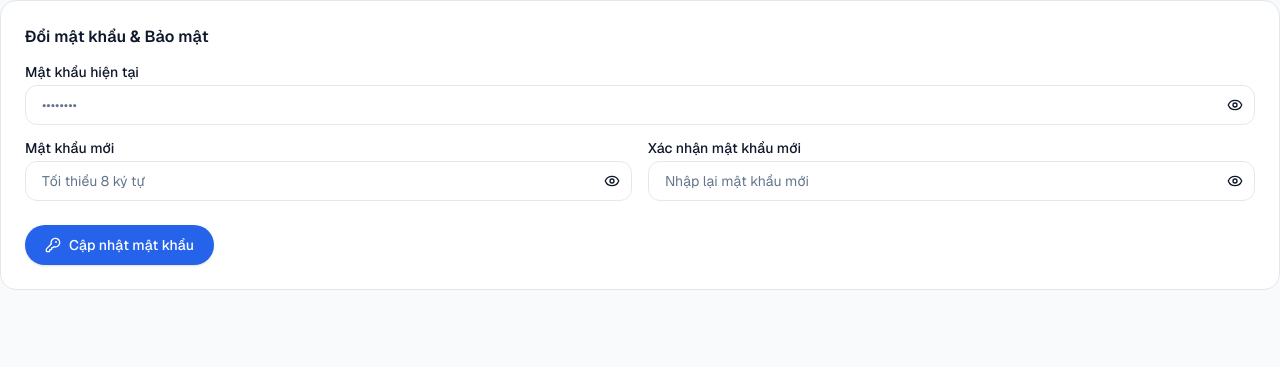
it: ChangePasswordGroup › shows validation error when confirmation password does not match
Type "oldPassword123" into the password field labelled "Mật khẩu hiện tại" at point(640, 105), box [25,85,1255,125]
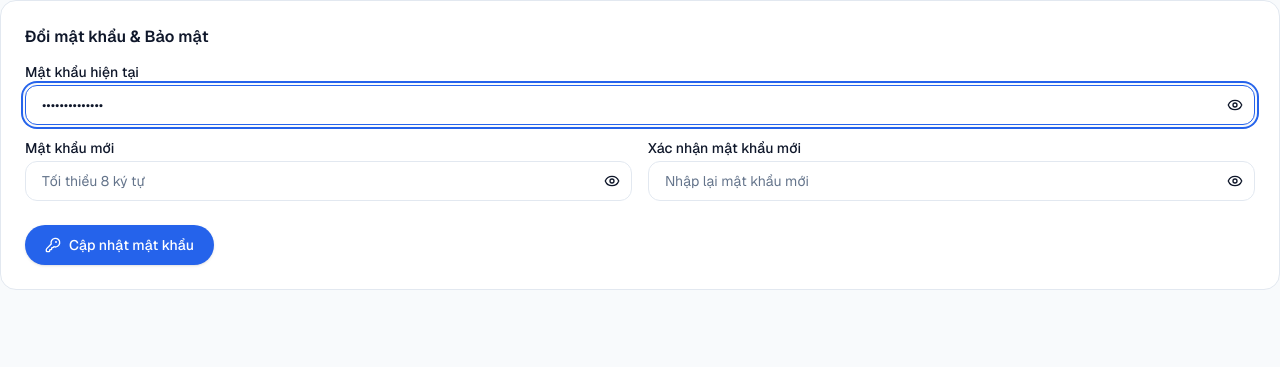
Type "newPassword123" into the password field labelled "Mật khẩu mới" at point(328, 181), box [25,161,632,201]
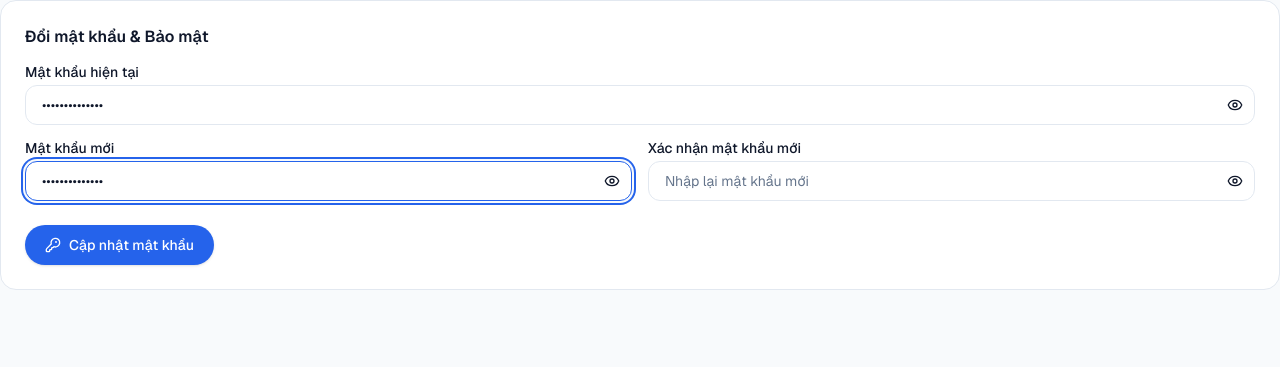
Type "mismatch123" into the password field labelled "Xác nhận mật khẩu mới" at point(952, 181), box [648,161,1255,201]
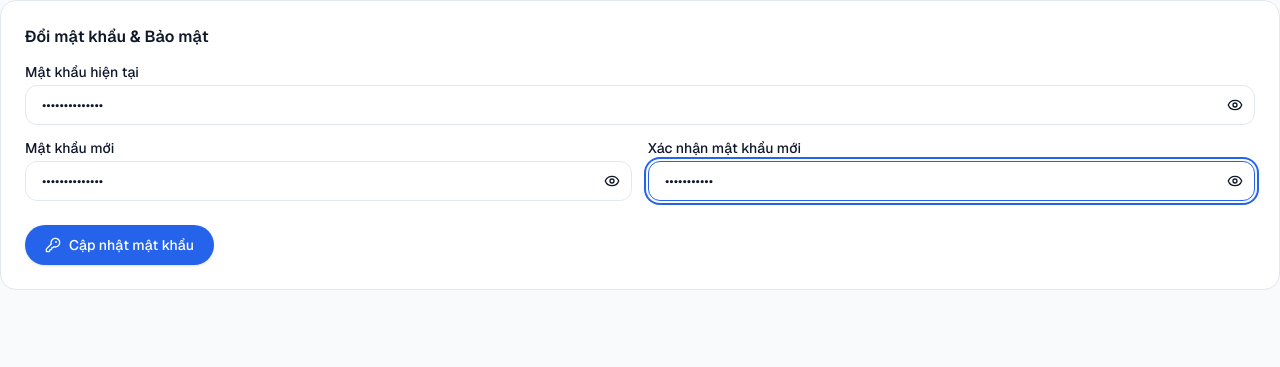
Click the button "Cập nhật mật khẩu" at point(120, 245), box [25,225,214,265]
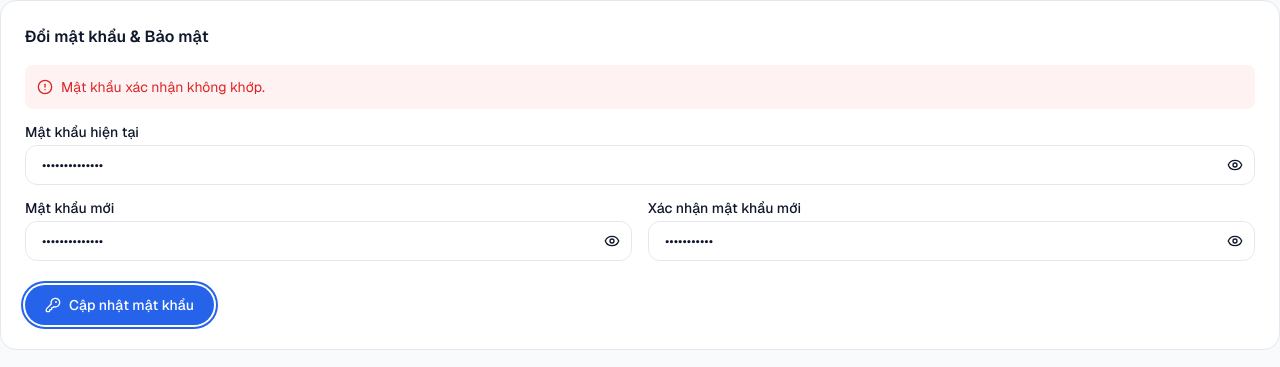
Expected: the text "Mật khẩu xác nhận không khớp." is shown, [61,77,265,97]
